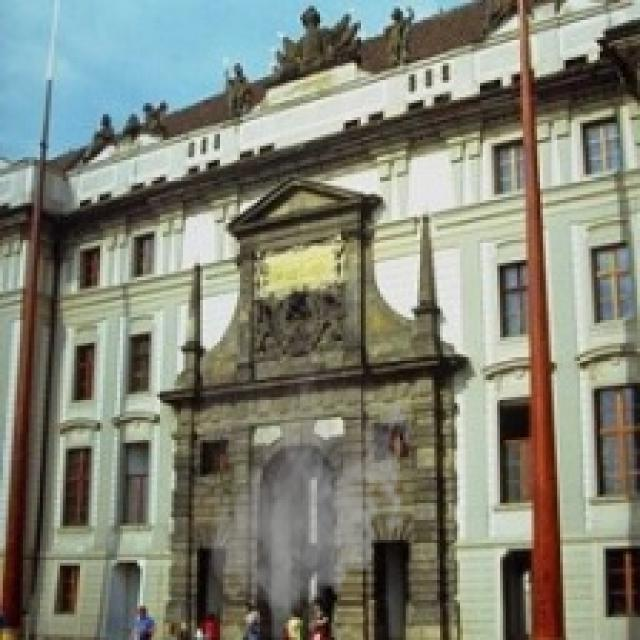Smoke: (202, 368, 418, 628)
